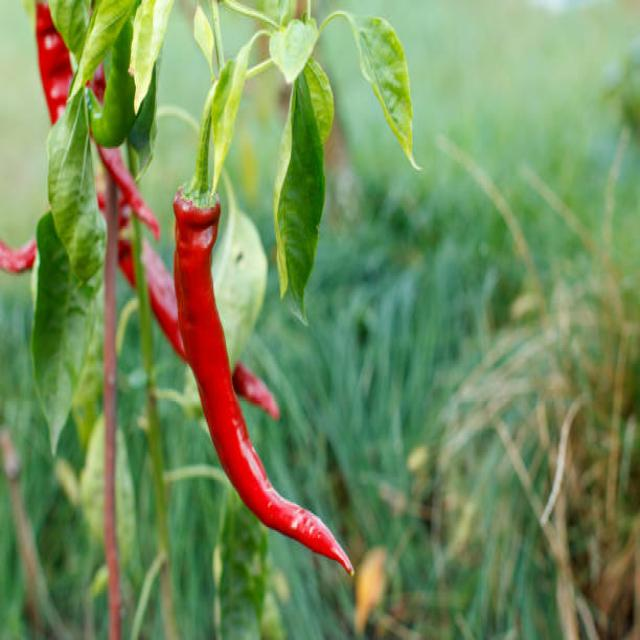Ripe: (174, 188, 351, 573)
Unripe: (83, 0, 139, 154)
